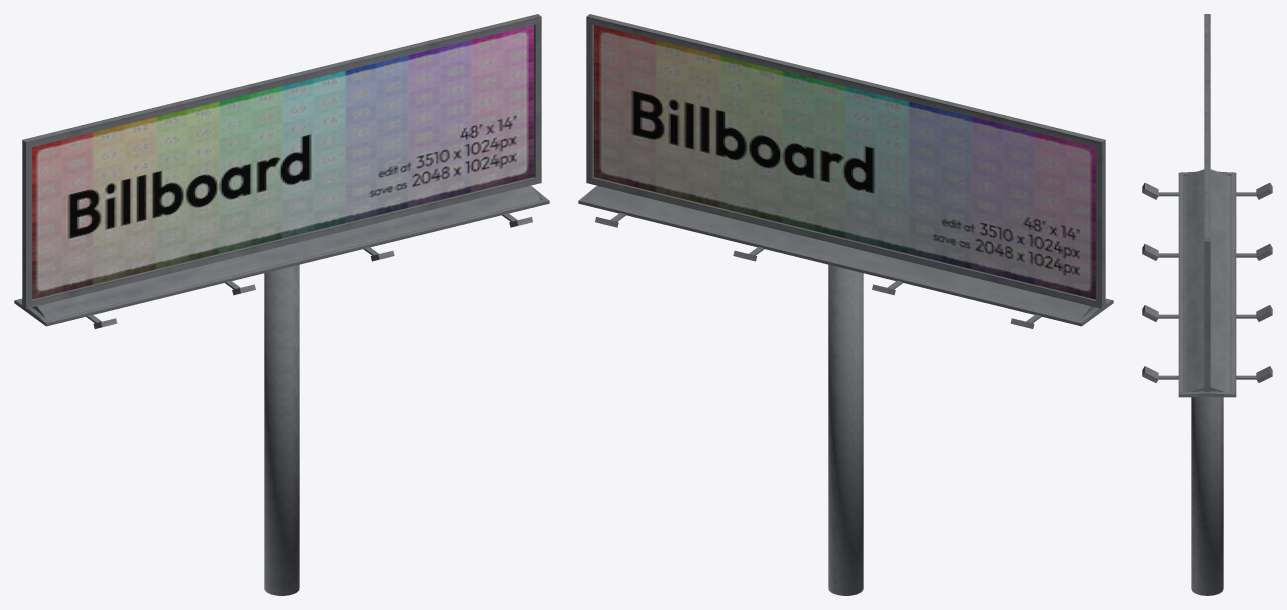
Rendered from billboard.glb.
3 renders of one model, left to right at view 1: azimuth 30°, elevation 25°; view 2: azimuth 150°, elevation 25°; view 3: azimuth 270°, elevation 25°, orthographic. The views are drawn at different scales.
Parts seen in each view (by area): view 1: billboard-1_baked_0; view 2: billboard-1_baked_0; view 3: billboard-1_baked_0.
Part boxes in pixels (x1,y1,x2,y2): billboard-1_baked_0: [14, 14, 549, 595]; billboard-1_baked_0: [578, 14, 1113, 595]; billboard-1_baked_0: [1142, 14, 1272, 595].
Size of the model in its own units: 2.6 by 2.46 by 0.6279.
Materials: 2 (2 with a texture image).
